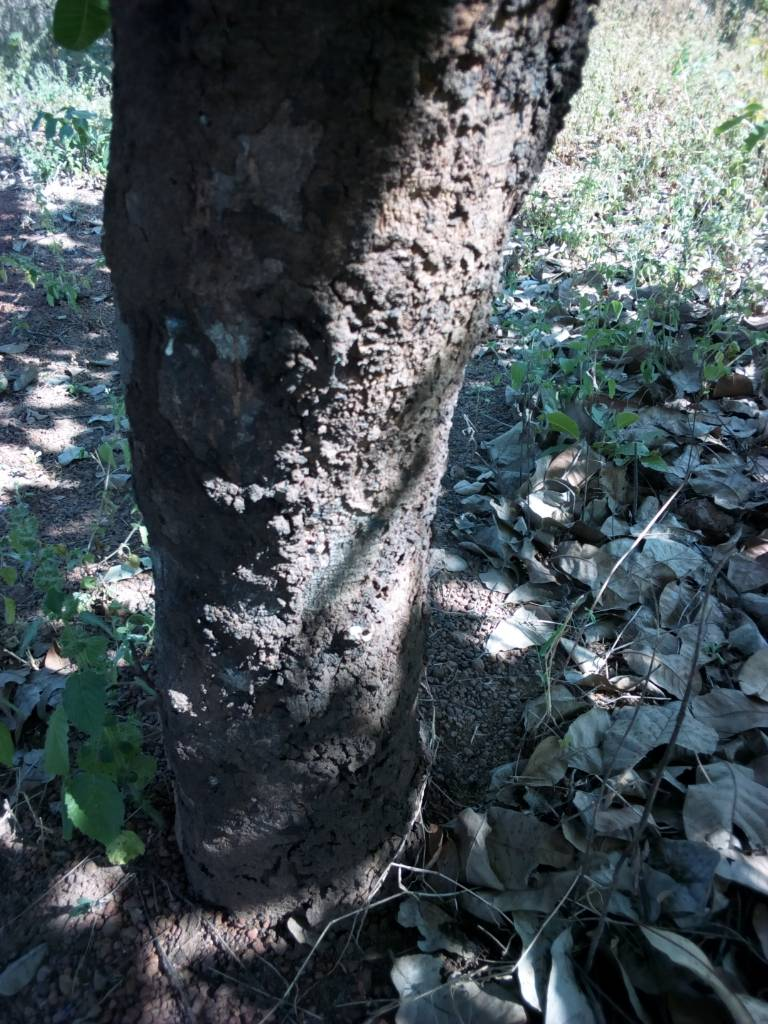Termites: (183, 10, 421, 882), (447, 1, 519, 213)
